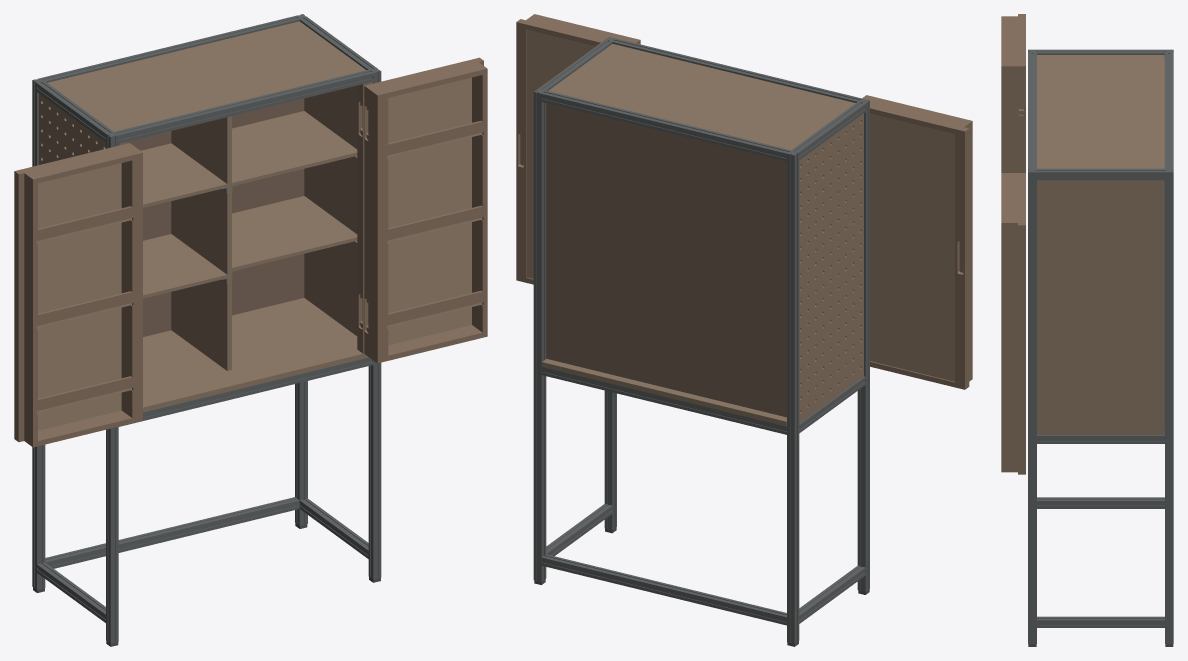
File: open.glb
The picture shows the model from 3 angles, left to right: view 1: azimuth 30°, elevation 25°; view 2: azimuth 150°, elevation 25°; view 3: azimuth 270°, elevation 25°; orthographic projection. The views are drawn at different scales.
Visible parts, largest first — view 1: R-front-panel, L-front-panel, B01-top-inset, B00-bottom-notched, B05-divider, B04-back, B03-right-side, R-hinge-stile, L-meeting-stile, B21-right-shelf, B20-right-shelf, L-hinge-stile (+27 smaller); view 2: B04-back, L-front-panel, B02-left-pegboard, B01-top-inset, Post-970-470, Post-0-470, L-meeting-stile, Post-0-0, R-front-panel, Beam-top-rear, Beam-lower-rear, R-meeting-stile (+11 smaller); view 3: B03-right-side, B01-top-inset, R-meeting-stile, Post-970-470, Post-970-0, L-hinge-stile, Beam-top-side-970, Beam-lower-side-0, Beam-lower-side-970, Beam-body-side-970, L-top-rail, R-top-rail (+4 smaller).
Part boxes in pixels (bbox=[...]): R-front-panel: bbox=[387, 77, 471, 345]; L-front-panel: bbox=[37, 163, 121, 430]; B01-top-inset: bbox=[47, 21, 365, 131]; B00-bottom-notched: bbox=[143, 298, 368, 412]; B05-divider: bbox=[171, 116, 231, 370]; B04-back: bbox=[128, 98, 304, 336]; B03-right-side: bbox=[304, 85, 357, 335]; R-hinge-stile: bbox=[364, 83, 388, 363]; L-meeting-stile: bbox=[14, 168, 37, 447]; B21-right-shelf: bbox=[232, 111, 357, 186]; B20-right-shelf: bbox=[232, 196, 357, 271]; L-hinge-stile: bbox=[119, 143, 142, 423]; B04-back: bbox=[546, 103, 786, 417]; L-front-panel: bbox=[870, 113, 954, 381]; B02-left-pegboard: bbox=[799, 113, 863, 423]; B01-top-inset: bbox=[548, 44, 855, 150]; Post-970-470: bbox=[533, 88, 546, 581]; Post-0-470: bbox=[787, 150, 799, 643]; L-meeting-stile: bbox=[955, 120, 972, 389]; Post-0-0: bbox=[857, 98, 869, 591]; R-front-panel: bbox=[527, 29, 595, 278]; Beam-top-rear: bbox=[541, 90, 790, 161]; Beam-lower-rear: bbox=[541, 554, 786, 625]; R-meeting-stile: bbox=[516, 14, 538, 282]; B03-right-side: bbox=[1037, 180, 1164, 435]; B01-top-inset: bbox=[1037, 55, 1164, 168]; R-meeting-stile: bbox=[1001, 220, 1025, 474]; Post-970-470: bbox=[1165, 168, 1173, 643]; Post-970-0: bbox=[1028, 168, 1036, 643]; L-hinge-stile: bbox=[1001, 61, 1025, 172]; Beam-top-side-970: bbox=[1037, 168, 1164, 180]; Beam-lower-side-0: bbox=[1037, 497, 1164, 508]; Beam-lower-side-970: bbox=[1037, 616, 1164, 627]; Beam-body-side-970: bbox=[1037, 432, 1164, 443]; L-top-rail: bbox=[1001, 18, 1025, 61]; R-top-rail: bbox=[1001, 178, 1025, 220].
Size of the model in its own units: 1.72 by 1.8 by 0.592.
